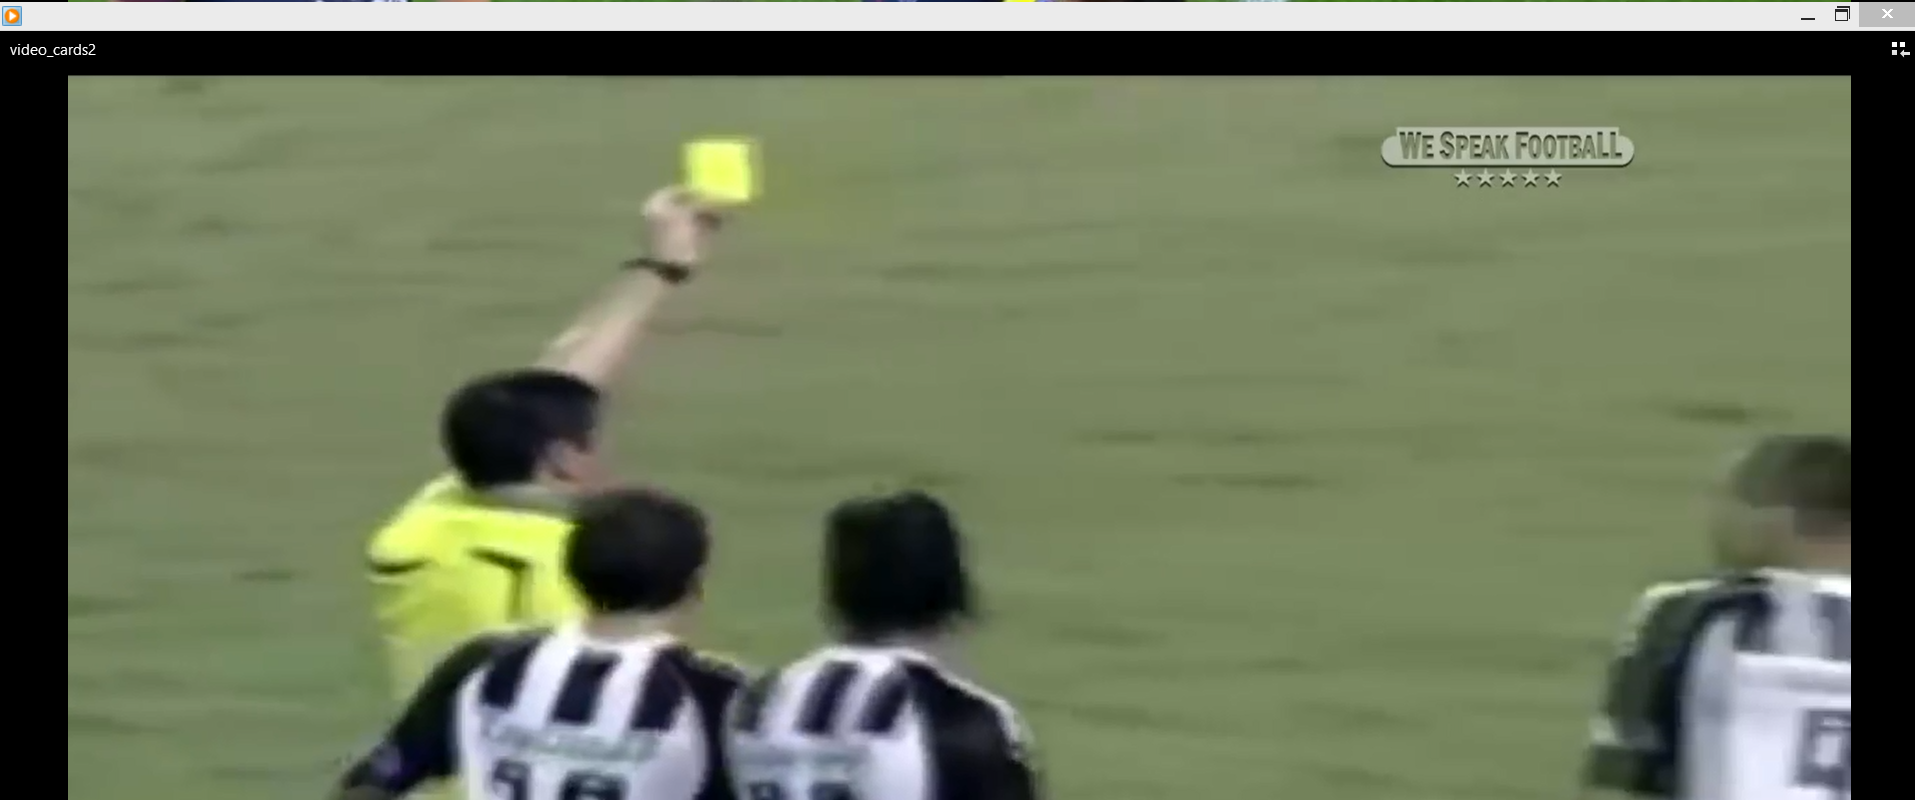yellow_card: (619, 125, 762, 256)
